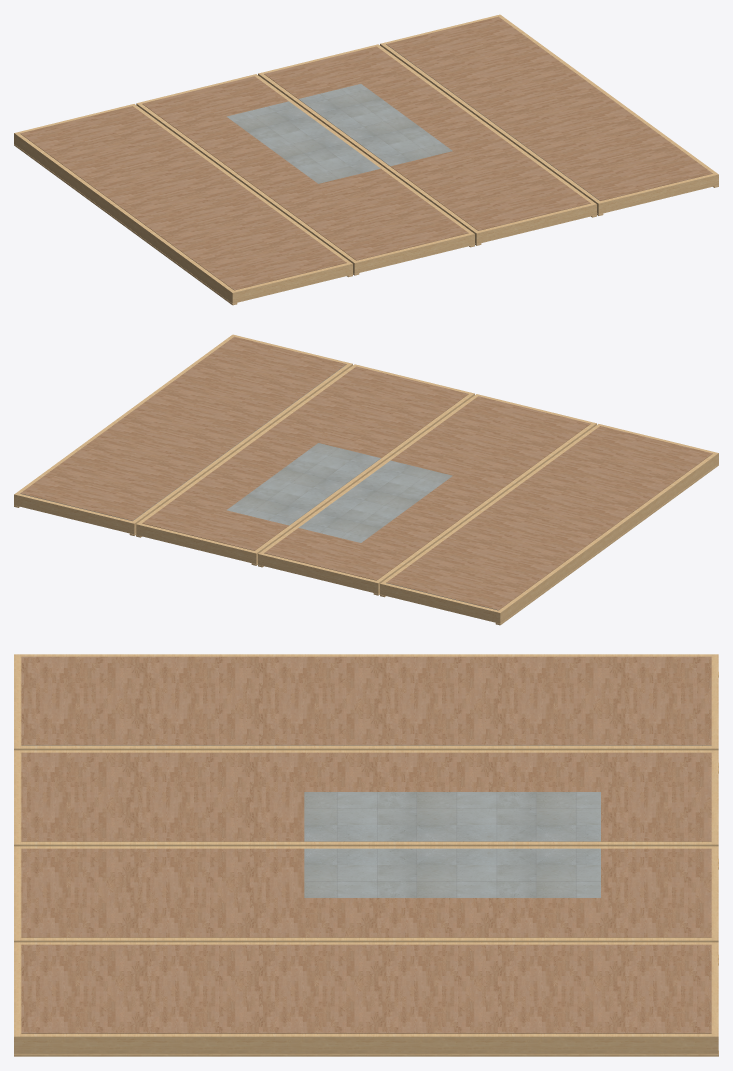
The model's file is Porand v1.glb.
The picture shows the model from 3 angles, top to bottom: view 1: azimuth 30°, elevation 25°; view 2: azimuth 150°, elevation 25°; view 3: azimuth 270°, elevation 25°; orthographic projection. The views are drawn at different scales.
Parts seen in each view (by area): view 1: Porandakate_006 (×2), Porandakate_016 (×2), Poranda-element_006 (×4), Pruss 45x145_094; view 2: Porandakate_016 (×2), Porandakate_006 (×2), Poranda-element_006 (×4), Pruss 45x145_094; view 3: Porandakate_006 (×2), Porandakate_016 (×2), Poranda-element_006 (×4), Pruss 45x145_094.
Part boxes in pixels (left/top/right/bottom): Porandakate_006 (×2): left=20, top=16, right=712, bottom=290; Porandakate_016 (×2): left=142, top=46, right=590, bottom=260; Poranda-element_006 (×4): left=14, top=14, right=718, bottom=303; Pruss 45x145_094: left=14, top=144, right=237, bottom=305; Porandakate_016 (×2): left=142, top=366, right=590, bottom=580; Porandakate_006 (×2): left=20, top=336, right=712, bottom=610; Poranda-element_006 (×4): left=14, top=334, right=718, bottom=623; Pruss 45x145_094: left=495, top=464, right=718, bottom=625; Porandakate_006 (×2): left=21, top=656, right=711, bottom=1033; Porandakate_016 (×2): left=21, top=752, right=711, bottom=937; Poranda-element_006 (×4): left=14, top=654, right=718, bottom=1053; Pruss 45x145_094: left=14, top=1051, right=718, bottom=1056.
Size of the model in its own units: 15.15 by 0.3787 by 11.8.
Materials: 3 (3 with a texture image).
